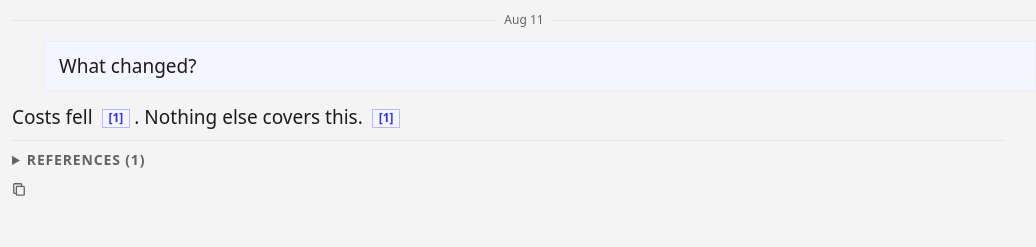
Test case: ChatMessages › shows a citation's best-supported claim, not the worst-verdict stamp
The width and height of the screenshot is (1036, 247).
Click the heading "References (1)": (86, 159) x1=27 y1=150 x2=145 y2=169
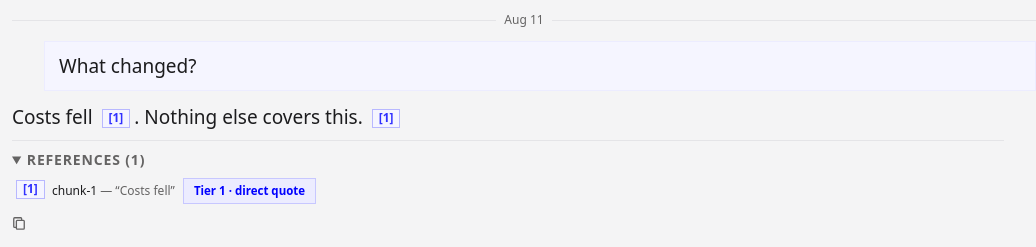
Check: the text "Tier 1 · direct quote" is shown, box x1=183 y1=178 x2=316 y2=204
